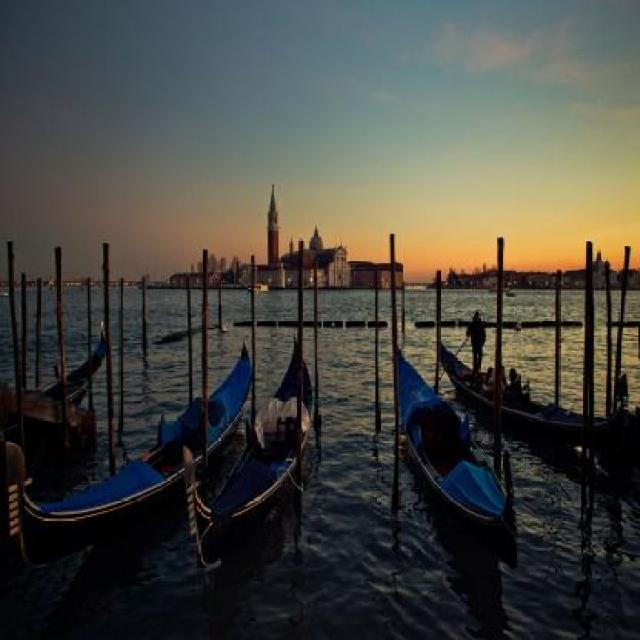ship: (6, 339, 251, 570), (183, 333, 314, 572), (394, 343, 518, 568), (396, 343, 518, 568), (437, 334, 629, 452), (437, 338, 628, 444), (45, 320, 104, 403)
